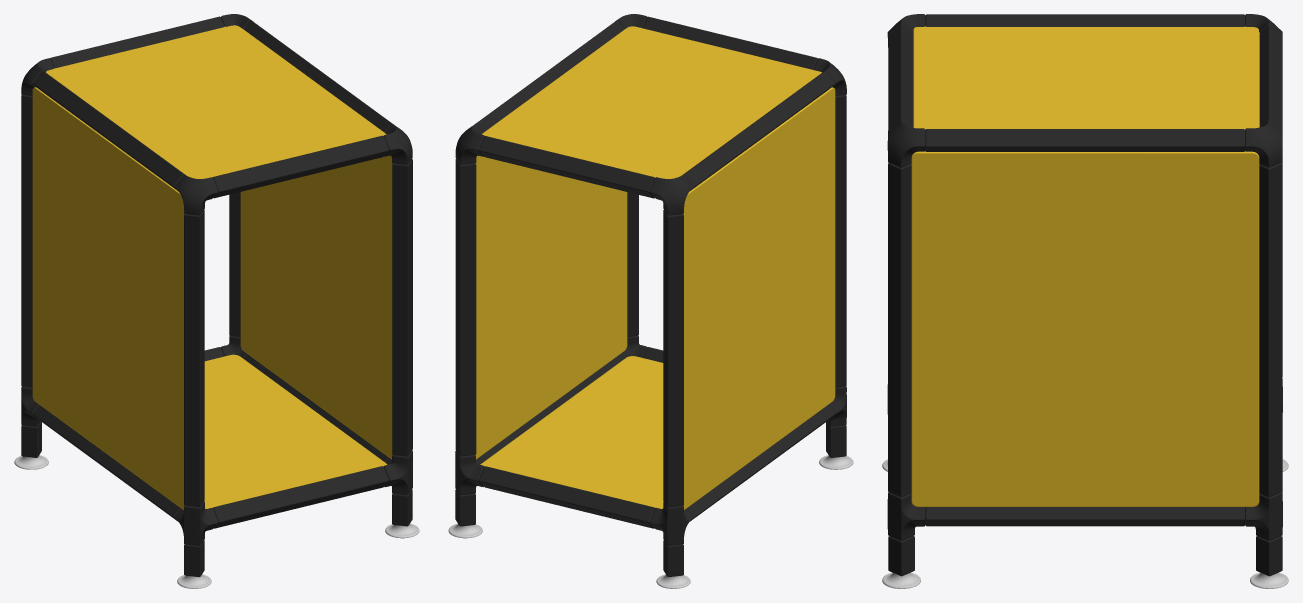
3 renders of one model, left to right at view 1: azimuth 30°, elevation 25°; view 2: azimuth 150°, elevation 25°; view 3: azimuth 270°, elevation 25°, orthographic. The views are drawn at different scales.
Parts seen in each view (by area): view 1: 229x329x374; view 2: 229x329x374; view 3: 229x329x374.
Part boxes in pixels (x1,y1,x2,y2): 229x329x374: (14,14,419,588); 229x329x374: (448,14,853,588); 229x329x374: (882,14,1288,588).
Bounding box in the file's own units: 0.3189 × 0.5133 × 0.4182.
